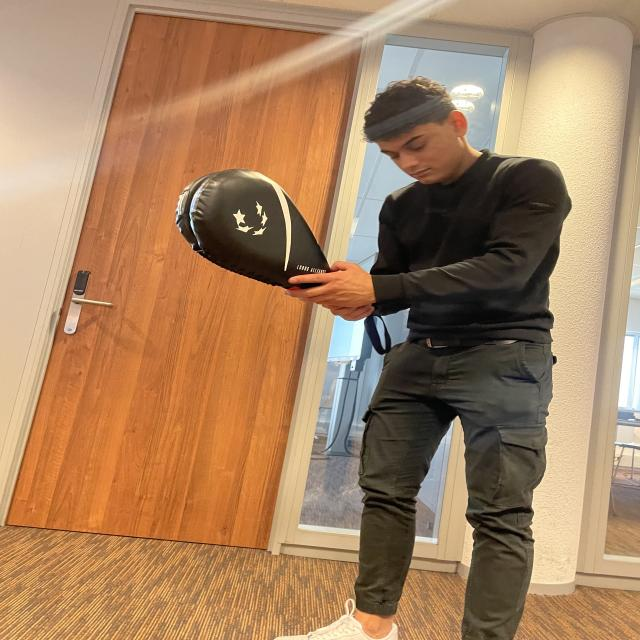paddle: (179, 168, 328, 285)
